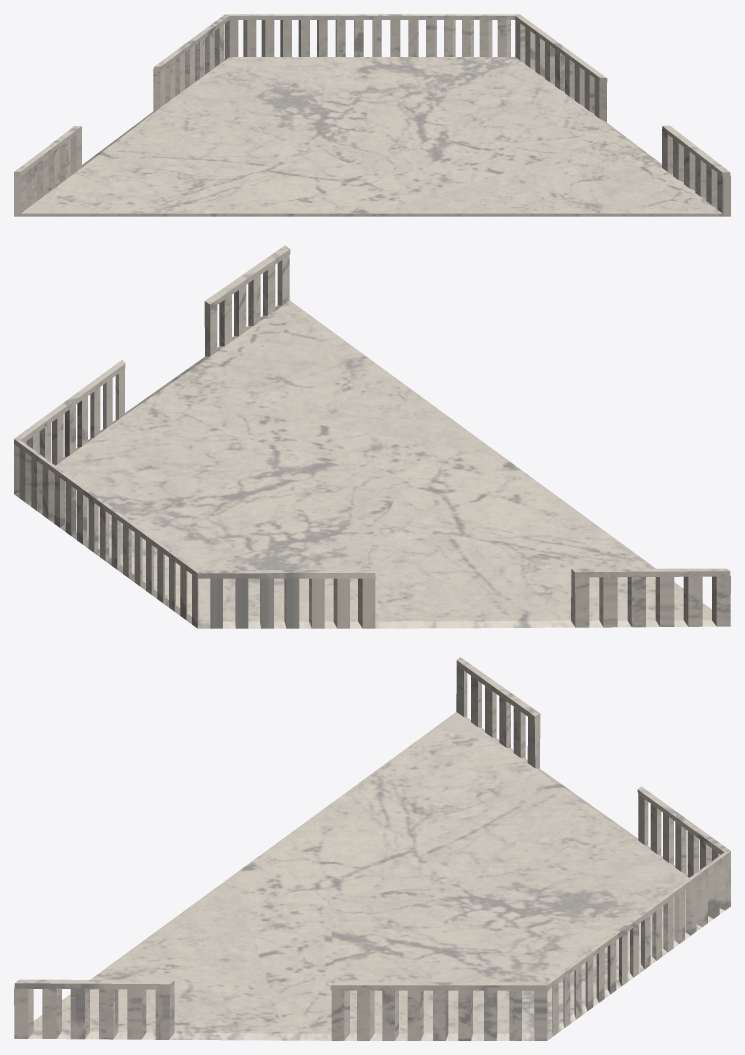
File: Balcony with Floor.fbx
The picture shows the model from 3 angles, top to bottom: view 1: azimuth 30°, elevation 25°; view 2: azimuth 150°, elevation 25°; view 3: azimuth 270°, elevation 25°; orthographic projection. The views are drawn at different scales.
Parts seen in each view (by area): view 1: Balcony_with_Floor; view 2: Balcony_with_Floor; view 3: Balcony_with_Floor.
Part boxes in pixels (x1,y1,x2,y2): Balcony_with_Floor: (14, 14, 730, 216); Balcony_with_Floor: (14, 245, 730, 628); Balcony_with_Floor: (14, 657, 730, 1040).
Bounding box in the file's own units: 1247 × 98.47 × 1150.
